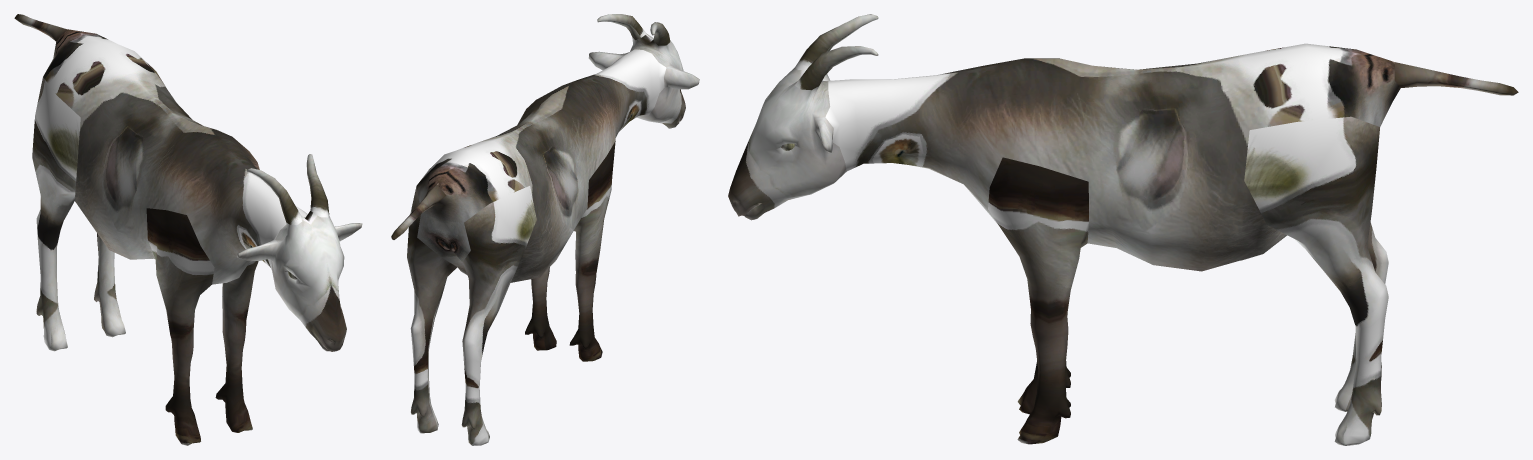
The model's file is goat.obj.
3 views of the same model, side by side, from view 1: azimuth 30°, elevation 25°; view 2: azimuth 150°, elevation 25°; view 3: azimuth 270°, elevation 25° (orthographic). The views are drawn at different scales.
Size of the model in its own units: 0.6537 by 1.62 by 2.96.
